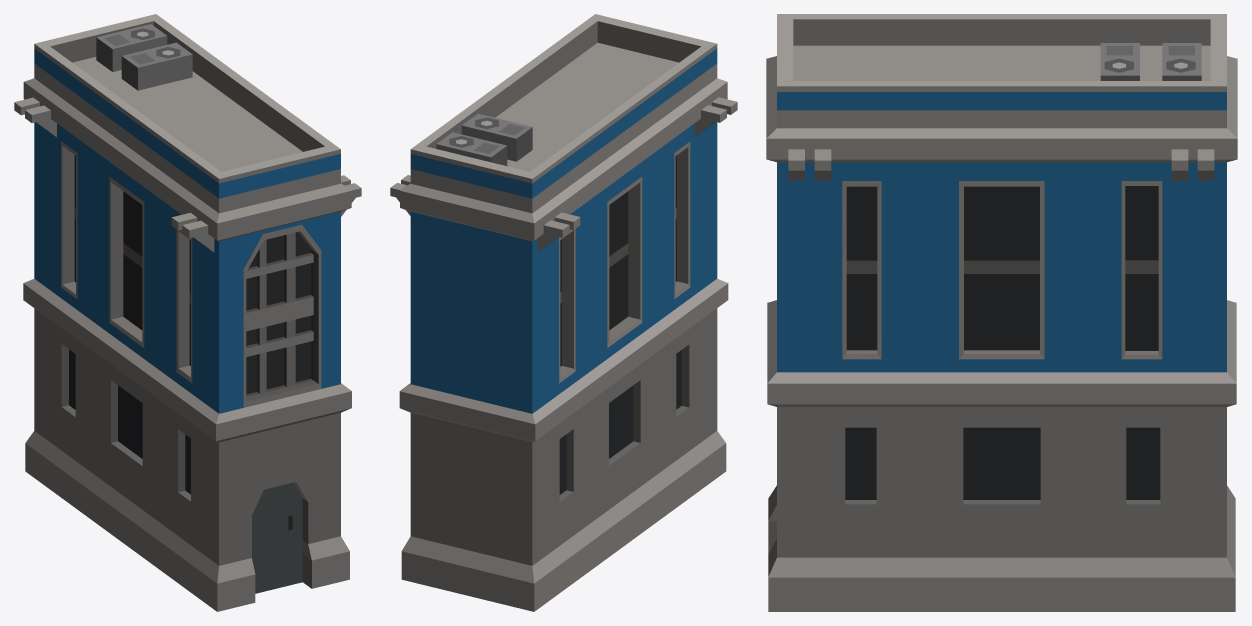
File: SA_Bld_WarehouseOldSmall_02.gltf
3 renders of one model, left to right at view 1: azimuth 30°, elevation 25°; view 2: azimuth 150°, elevation 25°; view 3: azimuth 270°, elevation 25°, orthographic. The views are drawn at different scales.
Visible parts, largest first — view 1: SA_Bld_WarehouseOldSmall_02; view 2: SA_Bld_WarehouseOldSmall_02; view 3: SA_Bld_WarehouseOldSmall_02.
Part boxes in pixels (bbox=[...]): SA_Bld_WarehouseOldSmall_02: bbox=[14, 14, 361, 611]; SA_Bld_WarehouseOldSmall_02: bbox=[390, 14, 737, 611]; SA_Bld_WarehouseOldSmall_02: bbox=[766, 14, 1237, 611].
Size of the model in its own units: 7.53 by 17.94 by 14.62.
1 material, 1 textured.
